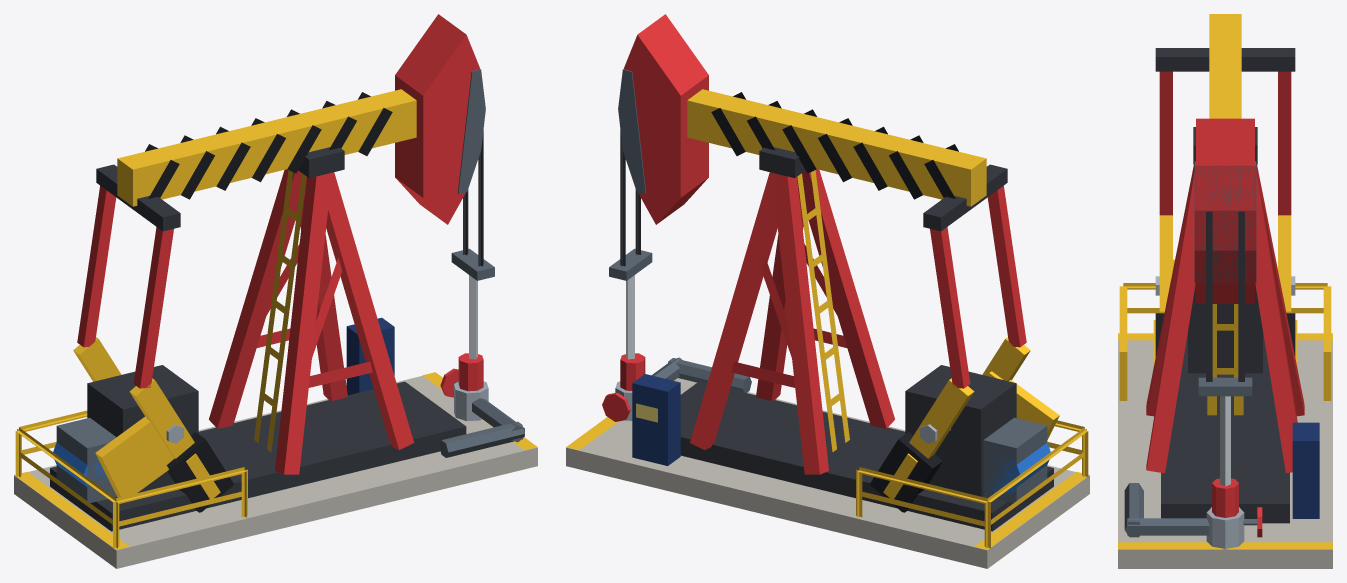
File: pumpjack.glb
The picture shows the model from 3 angles, left to right: view 1: azimuth 30°, elevation 25°; view 2: azimuth 150°, elevation 25°; view 3: azimuth 270°, elevation 25°; orthographic projection. The views are drawn at different scales.
Parts seen in each view (by area): view 1: Body; view 2: Body; view 3: Body.
Part boxes in pixels (x1,y1,x2,y2): Body: (14,14,537,568); Body: (566,14,1089,568); Body: (1118,14,1332,568).
Bounding box in the file's own units: 0.952 × 0.889 × 0.4.
